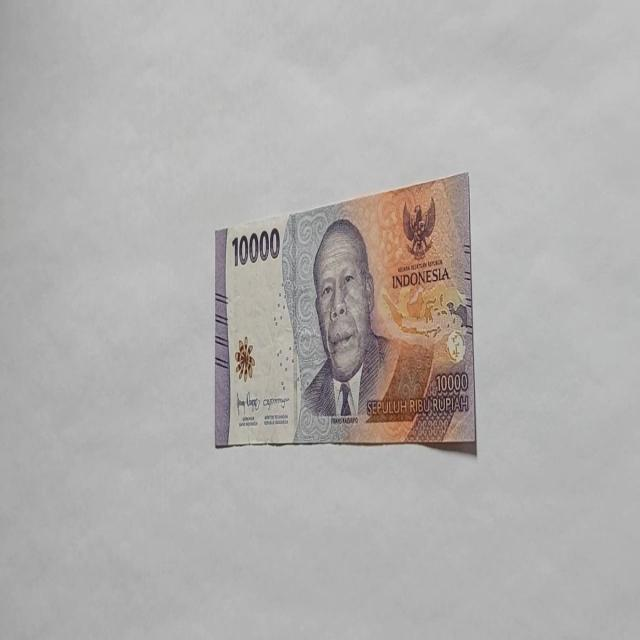Kertas: (213, 170, 477, 452), (231, 225, 281, 268)
